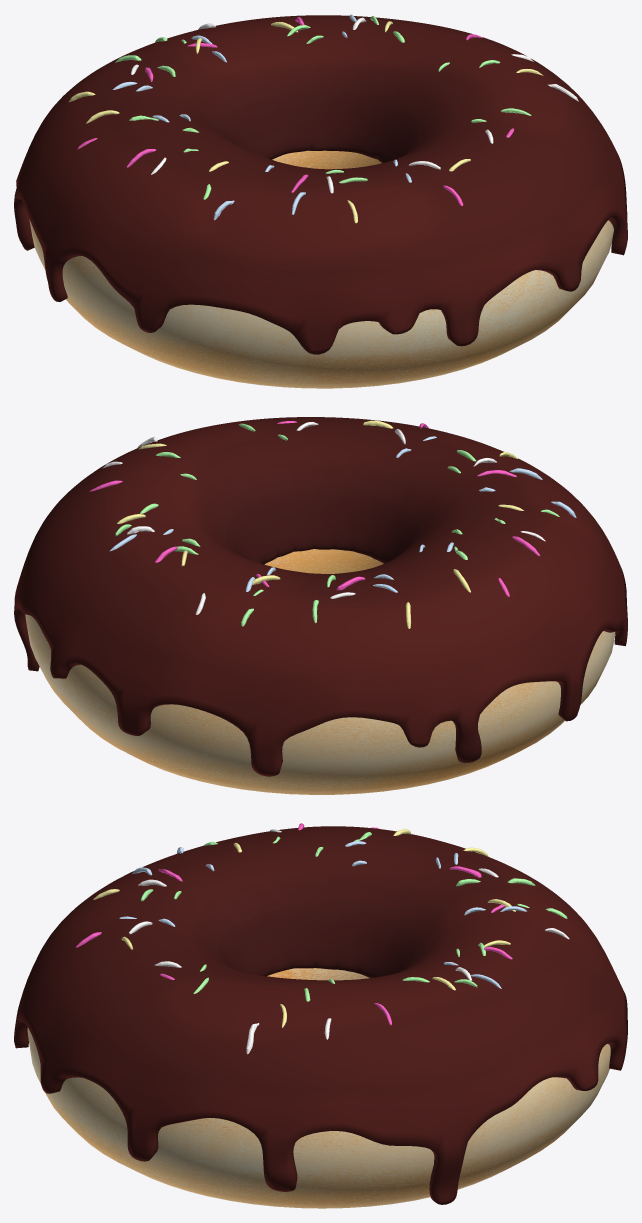
Rendered from 1.Donut.fbx.
3 views of the same model, one above another, from view 1: azimuth 30°, elevation 25°; view 2: azimuth 150°, elevation 25°; view 3: azimuth 270°, elevation 25° (orthographic).
Parts seen in each view (by area): view 1: DonutCream, DonutBody, Sprinkle_G, Sprinkle_Y, Sprinkle_B, Sprinkle_W, Sprinkle_P; view 2: DonutCream, DonutBody, Sprinkle_G, Sprinkle_Y, Sprinkle_B, Sprinkle_P, Sprinkle_W; view 3: DonutCream, DonutBody, Sprinkle_G, Sprinkle_W, Sprinkle_B, Sprinkle_Y, Sprinkle_P.
Boxes of the visible parts, bbox=[...] form: DonutCream: bbox=[14, 15, 627, 354]; DonutBody: bbox=[29, 150, 613, 388]; Sprinkle_G: bbox=[115, 16, 531, 199]; Sprinkle_Y: bbox=[68, 21, 543, 223]; Sprinkle_B: bbox=[112, 14, 411, 220]; Sprinkle_W: bbox=[131, 17, 578, 193]; Sprinkle_P: bbox=[77, 17, 514, 205]; DonutCream: bbox=[14, 417, 627, 776]; DonutBody: bbox=[25, 549, 615, 794]; Sprinkle_G: bbox=[115, 423, 559, 626]; Sprinkle_Y: bbox=[117, 420, 523, 628]; Sprinkle_B: bbox=[109, 436, 576, 592]; Sprinkle_P: bbox=[89, 421, 540, 596]; Sprinkle_W: bbox=[102, 422, 545, 614]; DonutCream: bbox=[14, 826, 627, 1204]; DonutBody: bbox=[27, 968, 610, 1208]; Sprinkle_G: bbox=[141, 832, 567, 1001]; Sprinkle_W: bbox=[129, 829, 569, 1054]; Sprinkle_B: bbox=[119, 841, 526, 988]; Sprinkle_Y: bbox=[93, 829, 515, 1027]; Sprinkle_P: bbox=[75, 823, 512, 1024].
Bounding box in the file's own units: 356 × 133 × 357.
